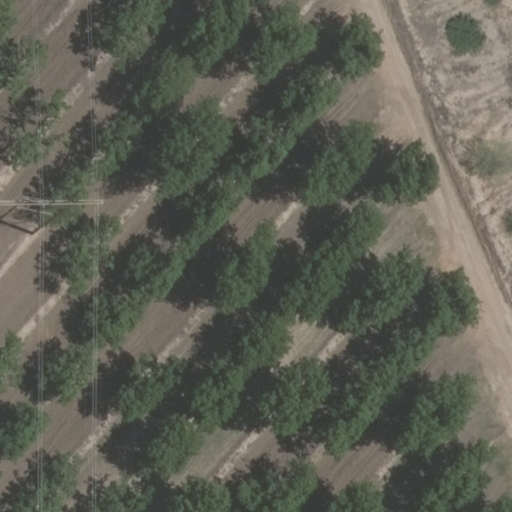TT: (1, 186, 105, 222)
